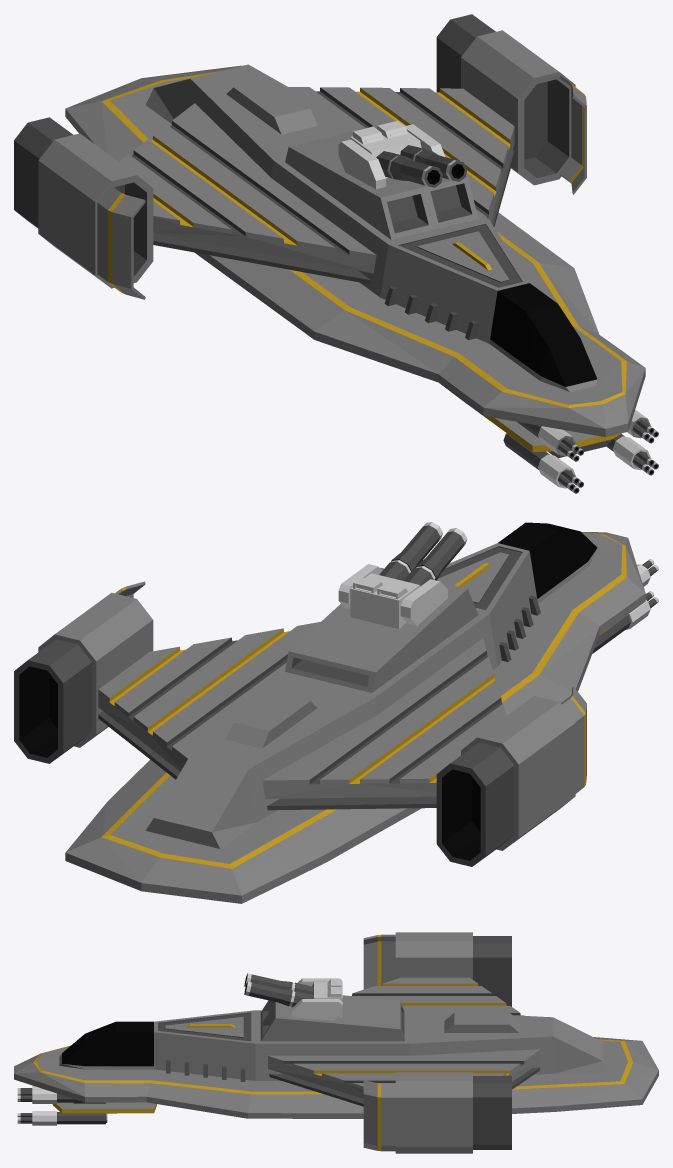
The model's file is Spaceship13_1.fbx.
3 views of the same model, one above another, from view 1: azimuth 30°, elevation 25°; view 2: azimuth 150°, elevation 25°; view 3: azimuth 270°, elevation 25° (orthographic). The views are drawn at different scales.
Parts seen in each view (by area): view 1: Spaceship13_1; view 2: Spaceship13_1; view 3: Spaceship13_1.
Boxes of the visible parts, x1=… form: Spaceship13_1: x1=14, y1=14, x2=658, y2=493; Spaceship13_1: x1=14, y1=522, x2=658, y2=903; Spaceship13_1: x1=14, y1=932, x2=658, y2=1153.
Bounding box in the file's own units: 1974 × 783 × 3384.
